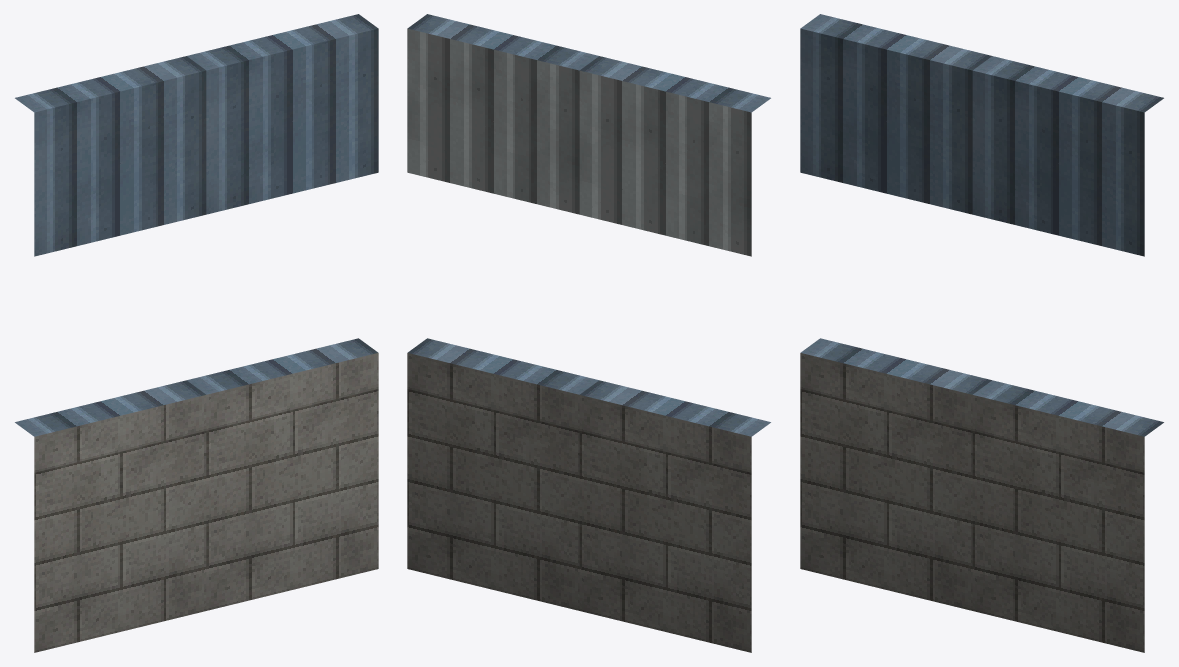
Rendered from wall_strip_factory.glb.
3 renders of one model, left to right at view 1: azimuth 30°, elevation 25°; view 2: azimuth 150°, elevation 25°; view 3: azimuth 330°, elevation 25°, orthographic.
Visible parts, largest first — view 1: wall_strip_factory; view 2: wall_strip_factory; view 3: wall_strip_factory.
Part boxes in pixels (bbox=[...]): wall_strip_factory: bbox=[15, 14, 378, 652]; wall_strip_factory: bbox=[407, 14, 770, 652]; wall_strip_factory: bbox=[800, 14, 1163, 652].
Size of the model in its own units: 2 by 3 by 0.2.
2 materials, 2 textured.
